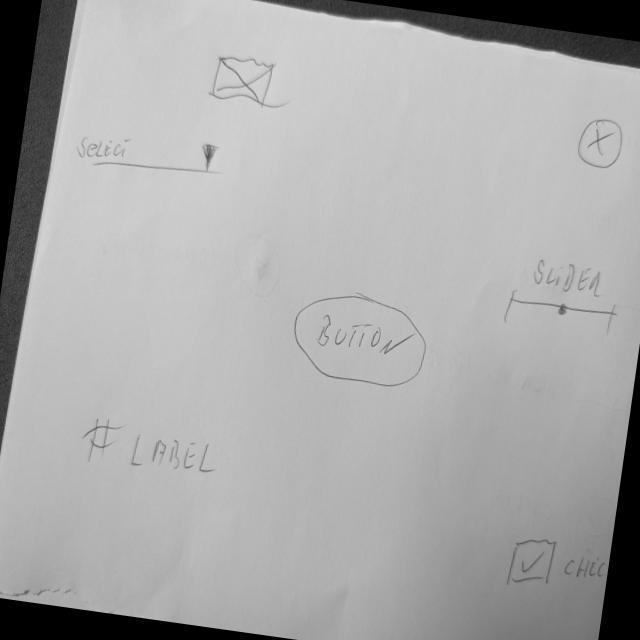button: (284, 286, 435, 399)
checkbox: (506, 532, 613, 603)
image: (210, 53, 279, 112), (572, 115, 630, 177)
label: (77, 412, 228, 483)
select: (90, 124, 232, 188)
slider: (502, 287, 622, 342)
